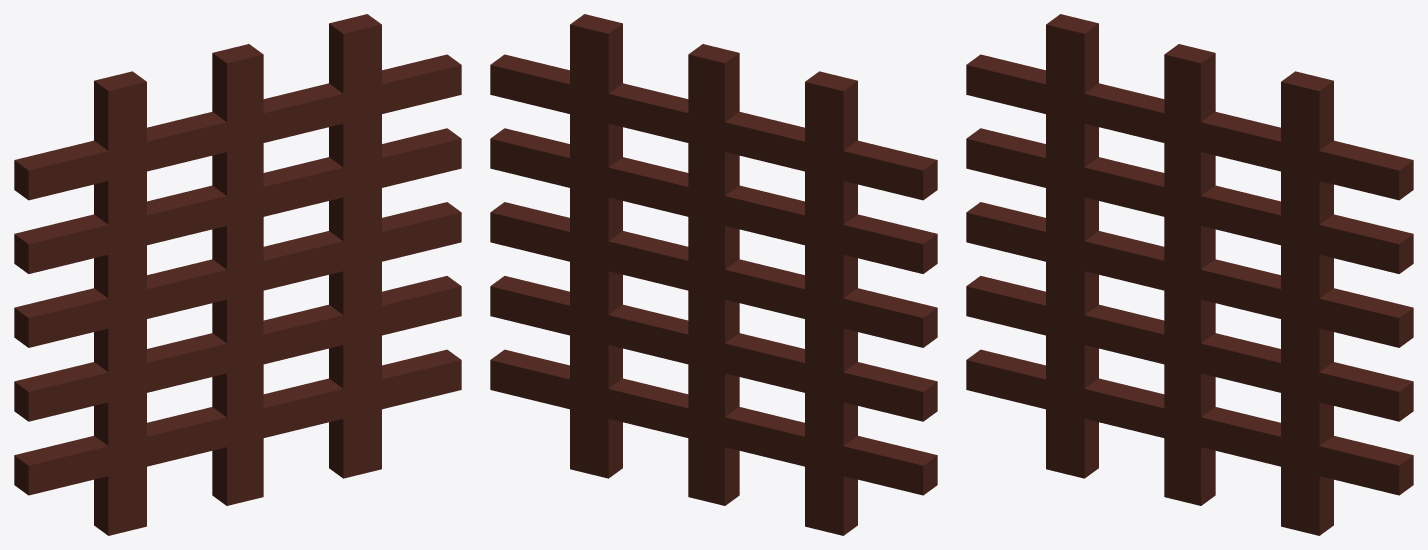
The model's file is Gate Bars.fbx.
3 views of the same model, side by side, from view 1: azimuth 30°, elevation 25°; view 2: azimuth 150°, elevation 25°; view 3: azimuth 330°, elevation 25° (orthographic).
Parts seen in each view (by area): view 1: Gate Bars; view 2: Gate Bars; view 3: Gate Bars.
Part boxes in pixels (x1,y1,x2,y2): Gate Bars: (14, 14, 461, 535); Gate Bars: (490, 14, 937, 535); Gate Bars: (966, 14, 1413, 535).
Size of the model in its own units: 531 by 521 by 30.49.
